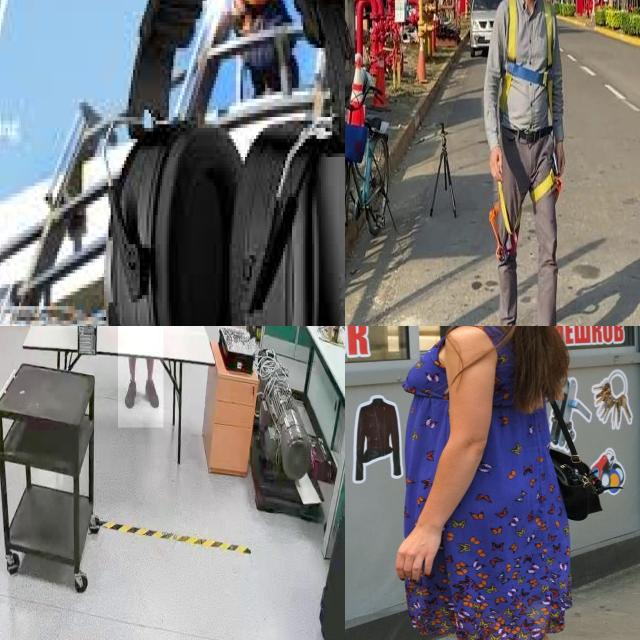Ear-protection: (97, 106, 235, 326), (229, 109, 345, 326)
Harness: (501, 0, 555, 112)
person: (118, 326, 164, 428)
shoes: (143, 374, 161, 416), (123, 377, 139, 414)
